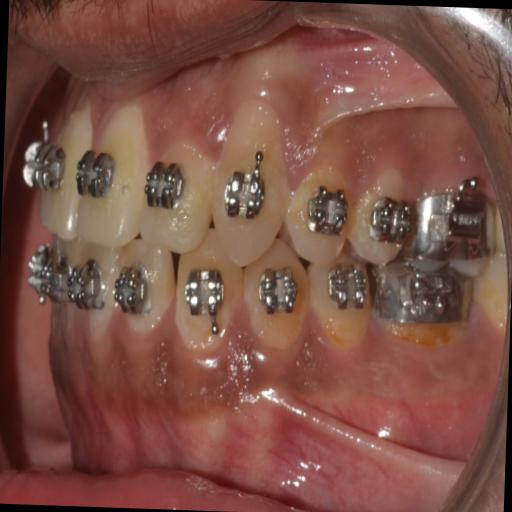correct_brace: (245, 242, 310, 358), (284, 160, 353, 262), (220, 143, 272, 232), (251, 260, 304, 335), (77, 134, 119, 227), (180, 262, 228, 334), (144, 154, 188, 230), (114, 259, 152, 334), (326, 266, 368, 324), (72, 250, 106, 320)
incorrect_brace: (140, 140, 216, 249), (112, 250, 176, 350), (302, 184, 350, 242)
